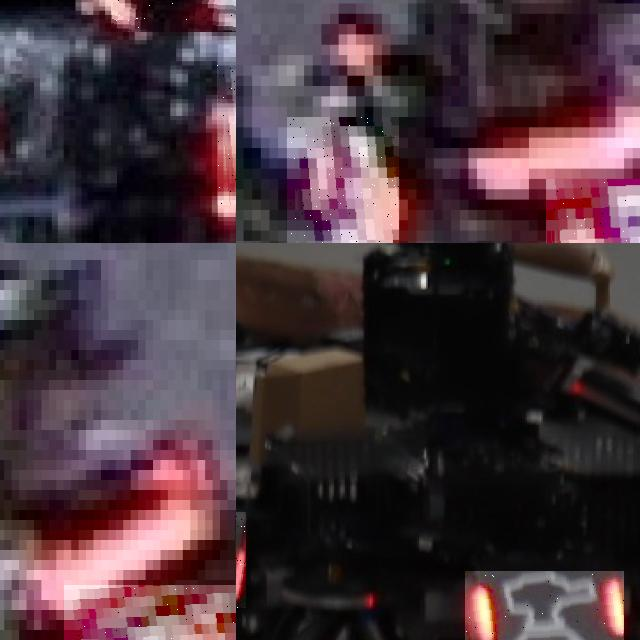B4: (63, 585, 236, 640)
R3: (286, 117, 399, 243), (546, 178, 640, 243), (111, 0, 236, 32)
Rs: (465, 571, 624, 640)
